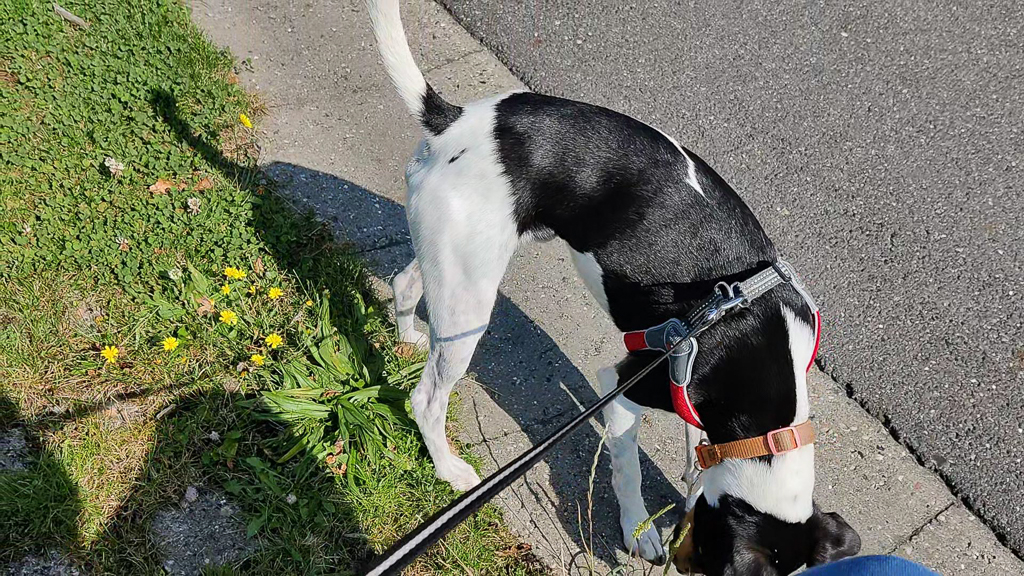Dog: (365, 0, 870, 576)
Humanoid: (771, 540, 972, 576)
